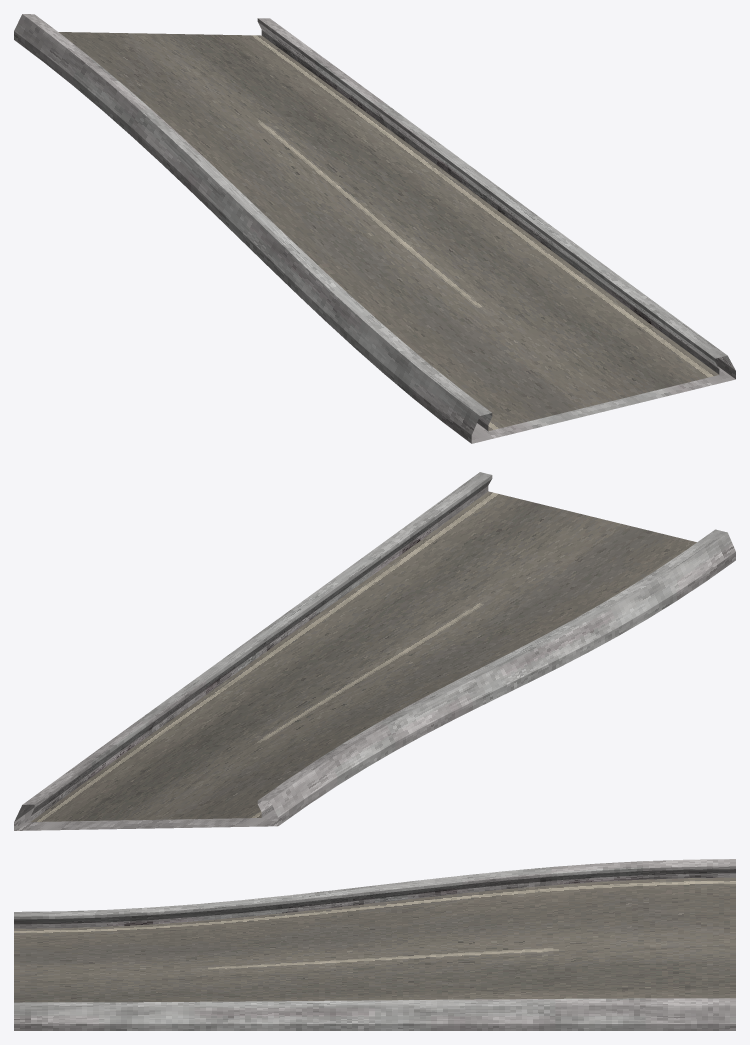
Rendered from road-Straight-Flat-HalfBankedRight-Even-Center-Size3.glb.
The picture shows the model from 3 angles, top to bottom: view 1: azimuth 30°, elevation 25°; view 2: azimuth 150°, elevation 25°; view 3: azimuth 270°, elevation 25°; orthographic projection. The views are drawn at different scales.
Visible parts, largest first — view 1: road-Straight-Flat-HalfBankedRight-Even-Center-Size3; view 2: road-Straight-Flat-HalfBankedRight-Even-Center-Size3; view 3: road-Straight-Flat-HalfBankedRight-Even-Center-Size3.
Part boxes in pixels (x1=…): road-Straight-Flat-HalfBankedRight-Even-Center-Size3: x1=14, y1=14, x2=735, y2=443; road-Straight-Flat-HalfBankedRight-Even-Center-Size3: x1=14, y1=472, x2=735, y2=830; road-Straight-Flat-HalfBankedRight-Even-Center-Size3: x1=14, y1=859, x2=735, y2=1030.
Bounding box in the file's own units: 1 × 0.3359 × 3.
2 materials, 2 textured.
